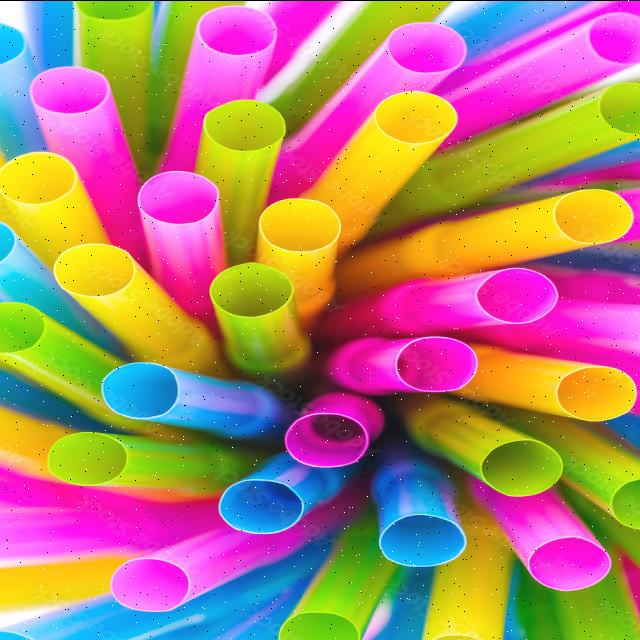plastic: (260, 555, 391, 640)
